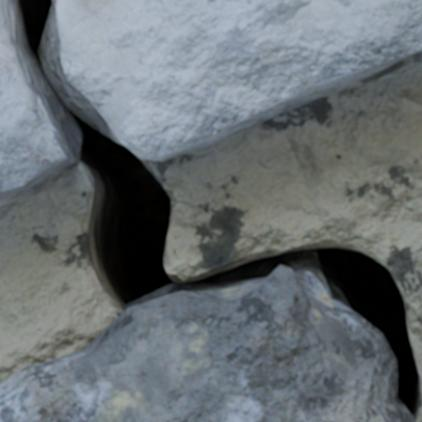brick: (0, 267, 415, 421)
broken_brick: (58, 0, 421, 162), (0, 58, 79, 207)
crack: (0, 0, 421, 420)
